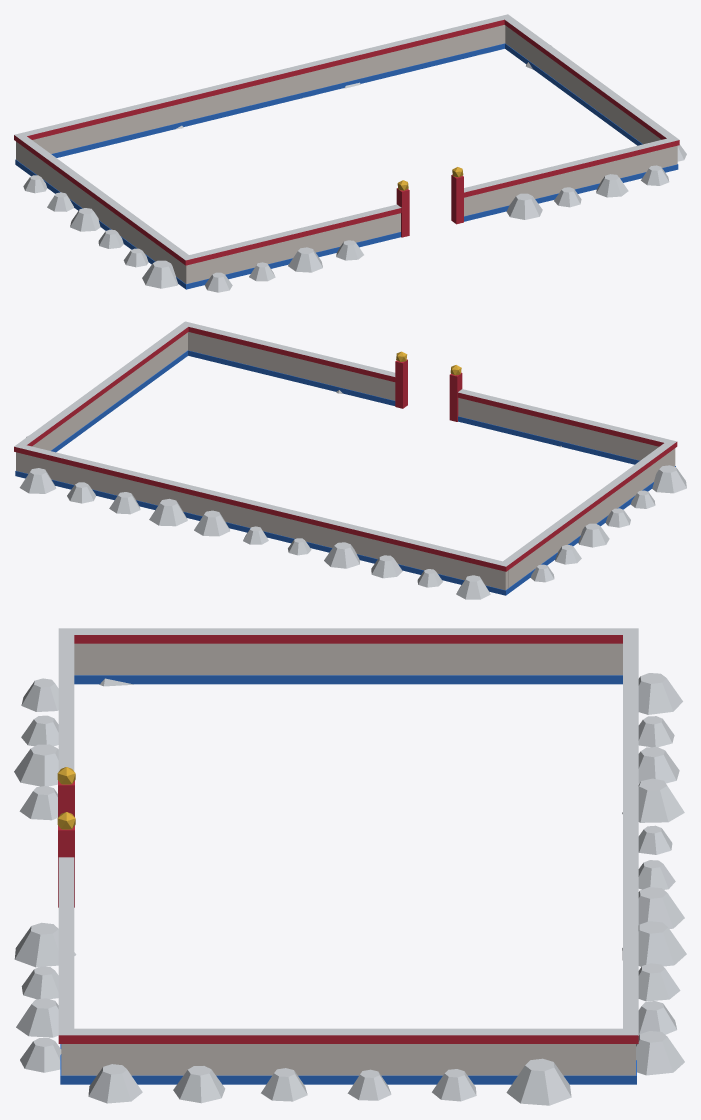
File: IceRink_Boards.glb
3 renders of one model, top to bottom at view 1: azimuth 30°, elevation 25°; view 2: azimuth 150°, elevation 25°; view 3: azimuth 270°, elevation 25°, orthographic. The views are drawn at different scales.
Visible parts, largest first — view 1: IceRink_Boards; view 2: IceRink_Boards; view 3: IceRink_Boards.
Boxes of the visible parts, x1=… form: IceRink_Boards: x1=14, y1=14, x2=686, y2=292; IceRink_Boards: x1=14, y1=321, x2=686, y2=599; IceRink_Boards: x1=14, y1=628, x2=686, y2=1105.
Bounding box in the file's own units: 49.74 × 4.82 × 31.61.
